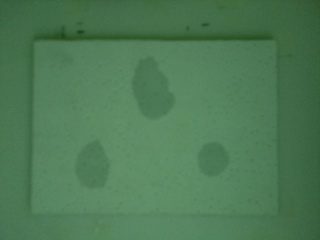Water_detected: (126, 61, 169, 119), (78, 148, 117, 188), (199, 148, 229, 178)
